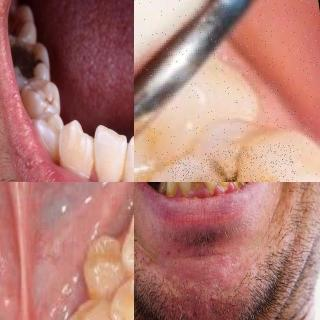Gum Swelling: (173, 182, 235, 200)
calculus: (164, 182, 180, 200), (205, 183, 219, 196), (179, 185, 191, 198), (219, 182, 231, 194)
cavities: (164, 158, 290, 182)
maligned: (78, 227, 129, 299), (31, 109, 71, 156), (60, 288, 114, 320), (119, 138, 134, 182), (203, 182, 219, 194), (192, 182, 204, 190)
stains: (191, 182, 206, 192)
